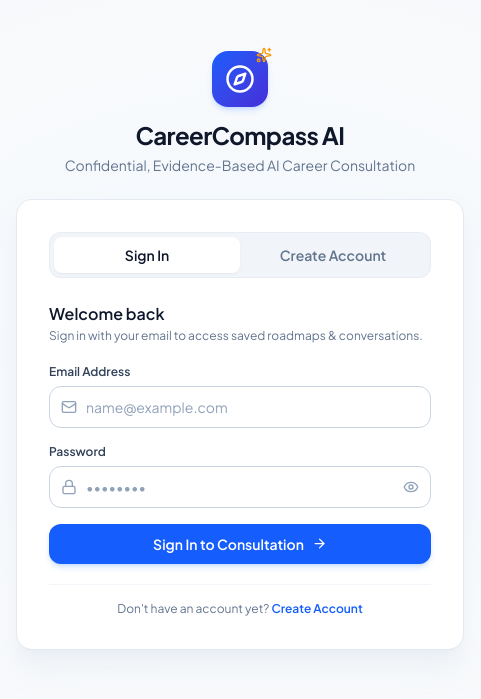
Authentication & Role Enforcement Frontend Tests › enforces client-side validation for short passwords and invalid emails
The image size is (481, 699).
# Invalid email
Type "invalid-email" into the field with placeholder "name@example.com" at (240, 406), box left=49, top=386, right=431, bottom=428
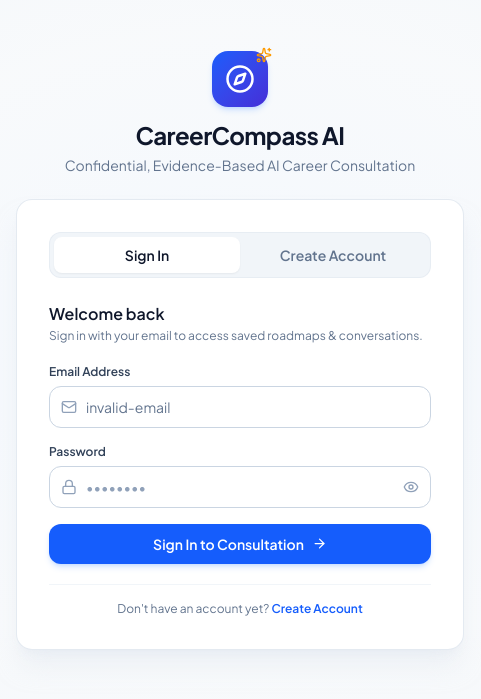
Type "12345678" into the password field with placeholder "••••••••" at (240, 486), box left=49, top=466, right=431, bottom=508
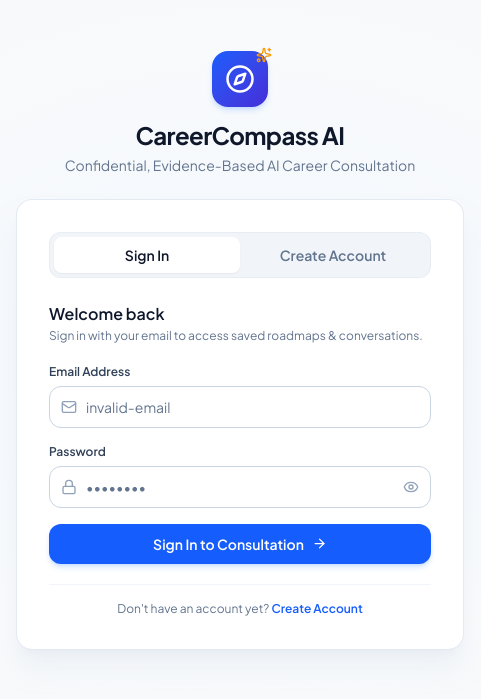
Click the button with test id "auth-submit-btn" at (240, 544), box left=49, top=524, right=431, bottom=564
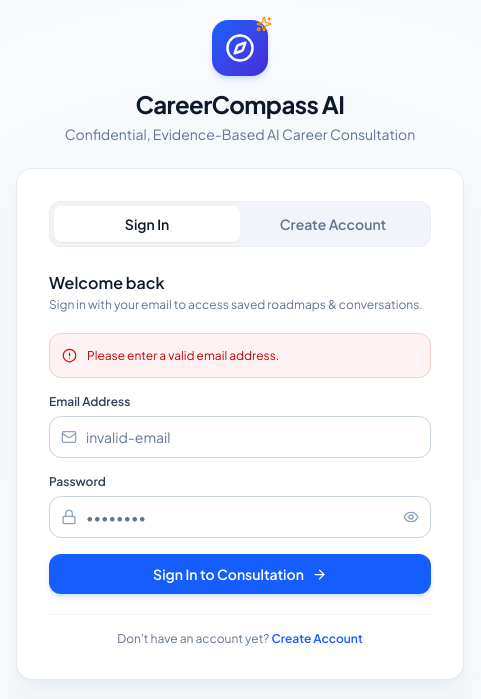
Now the text "Please enter a valid email address." is shown, box left=87, top=346, right=279, bottom=365
Replace the text in the field with placeholder "name@example.com" with "test@example.com" at (240, 437), box left=49, top=416, right=431, bottom=458
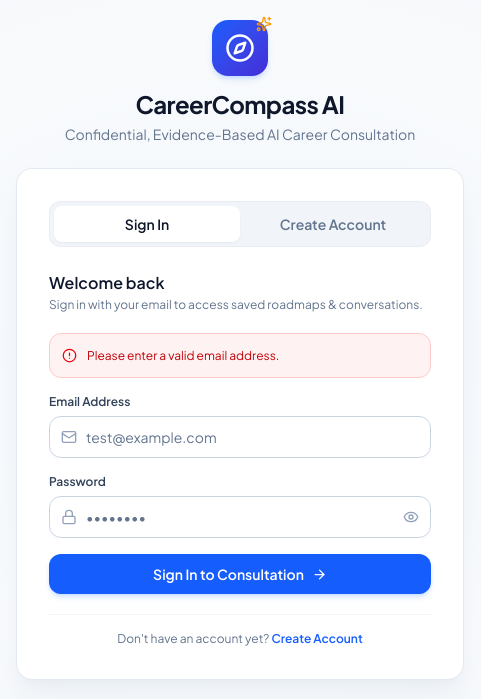
Type "123" into the password field with placeholder "••••••••" at (240, 517), box left=49, top=496, right=431, bottom=538
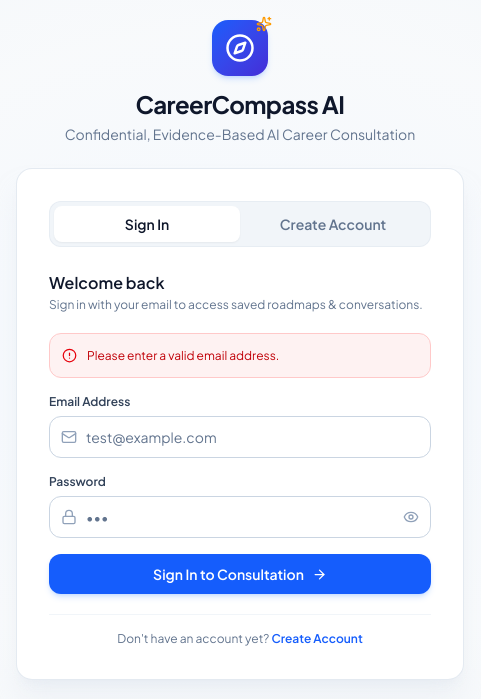
Click the button with test id "auth-submit-btn" at (240, 574), box left=49, top=554, right=431, bottom=594
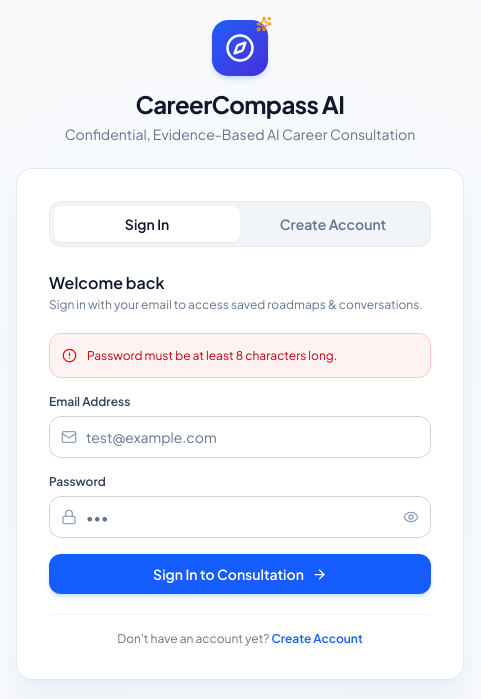
Now the text "Password must be at least 8 characters long." is shown, box left=87, top=346, right=337, bottom=365
